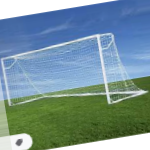goals: (1, 31, 150, 107)
